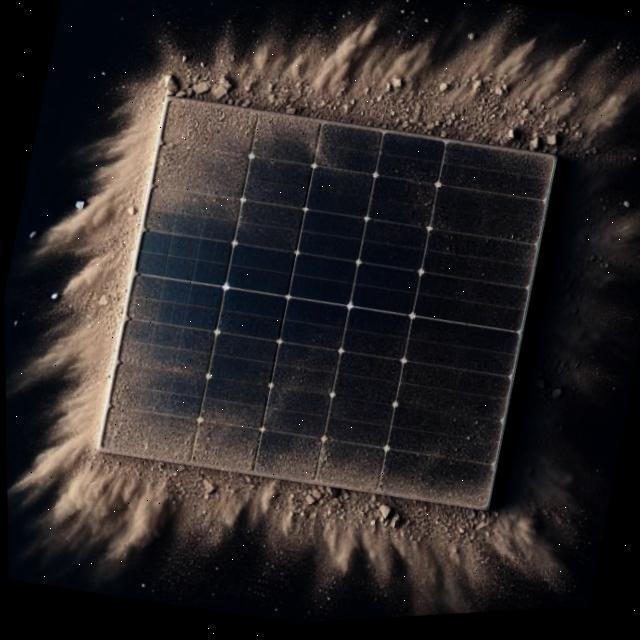Anomaly Solar Panel: (94, 96, 552, 514)
Surface Contaminant: (98, 271, 518, 512), (140, 96, 385, 265), (362, 135, 553, 350)
